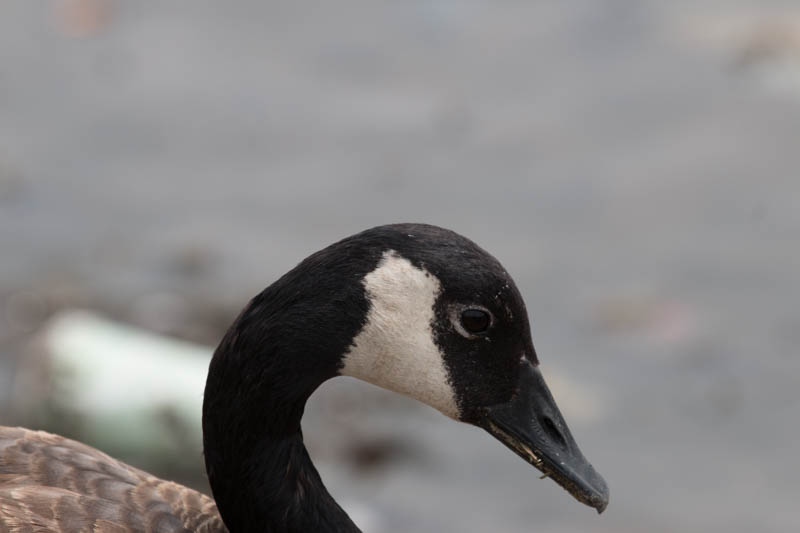goose-head: (317, 222, 612, 515)
